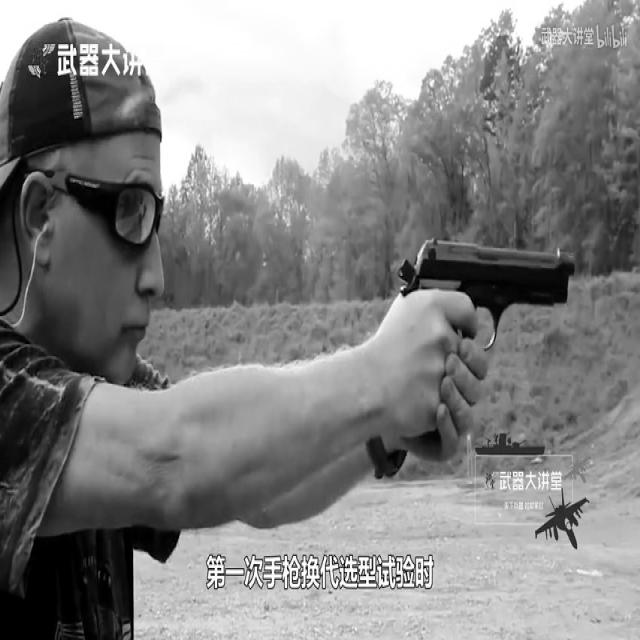Hand-Gun: (382, 228, 583, 453)
